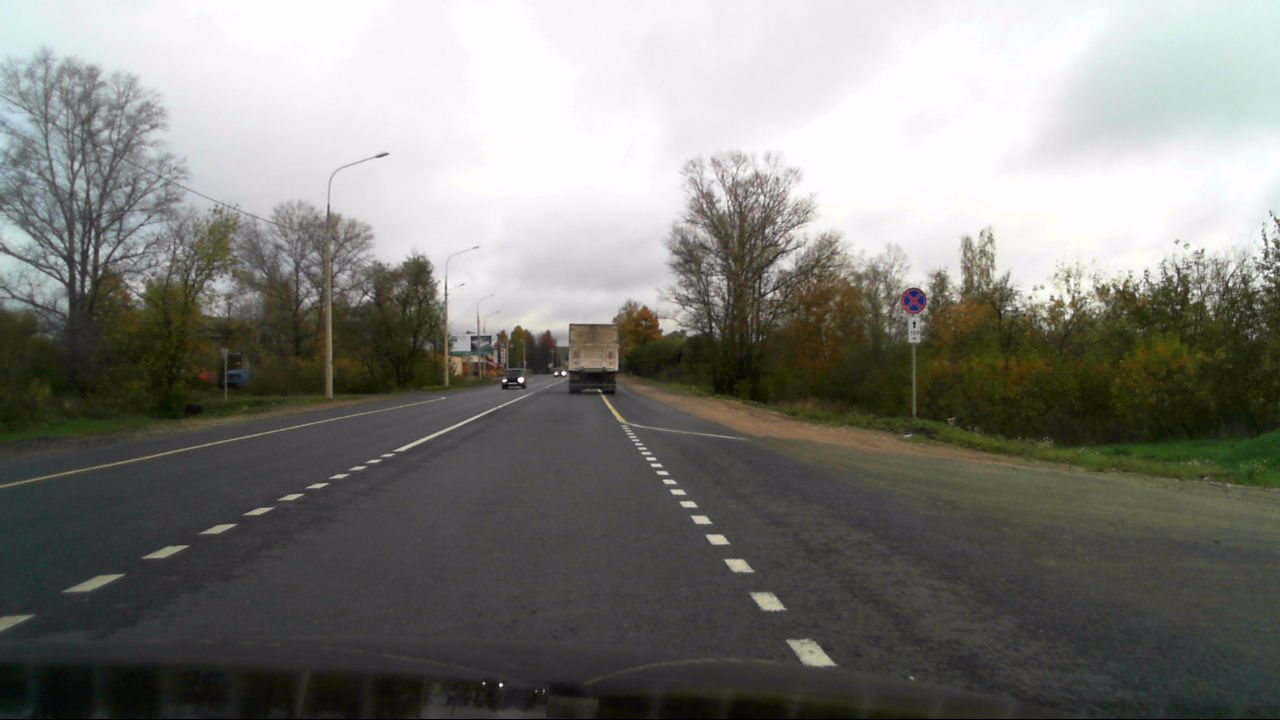No Parking: (901, 287, 926, 315)
